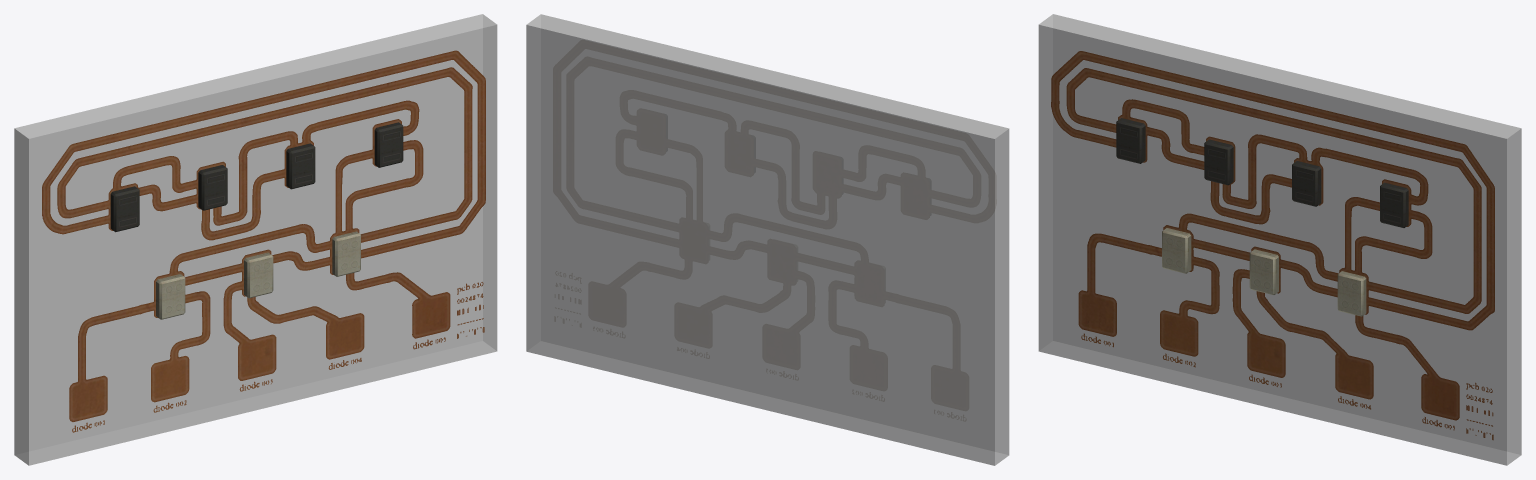
Rendered from 02_06_theta_door_chip.dae.
The picture shows the model from 3 angles, left to right: view 1: azimuth 30°, elevation 25°; view 2: azimuth 150°, elevation 25°; view 3: azimuth 330°, elevation 25°; orthographic projection.
Visible parts, largest first — view 1: glass, circuit; view 2: glass; view 3: glass, circuit.
Boxes of the visible parts, bbox=[...] form: glass: bbox=[14, 14, 497, 465]; circuit: bbox=[42, 50, 485, 432]; glass: bbox=[526, 14, 1009, 465]; glass: bbox=[1038, 14, 1521, 465]; circuit: bbox=[1051, 51, 1494, 440].
Size of the model in its own units: 0.1406 by 0.0938 by 0.00992.
